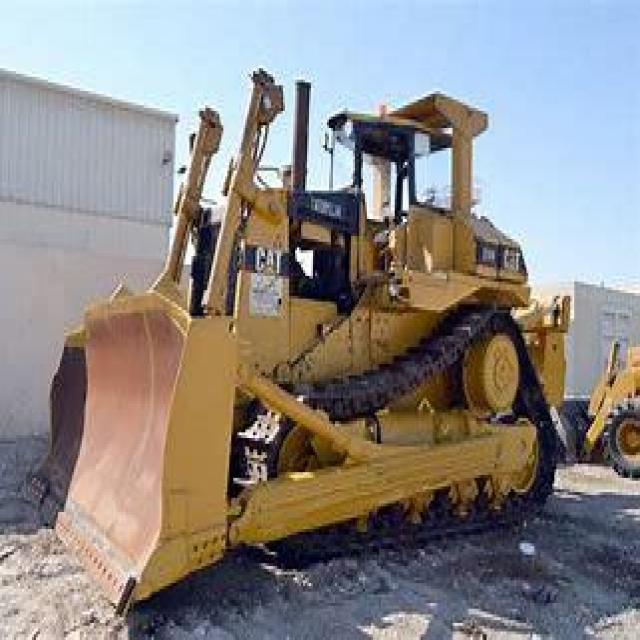Bulldozer: (22, 40, 564, 611)
